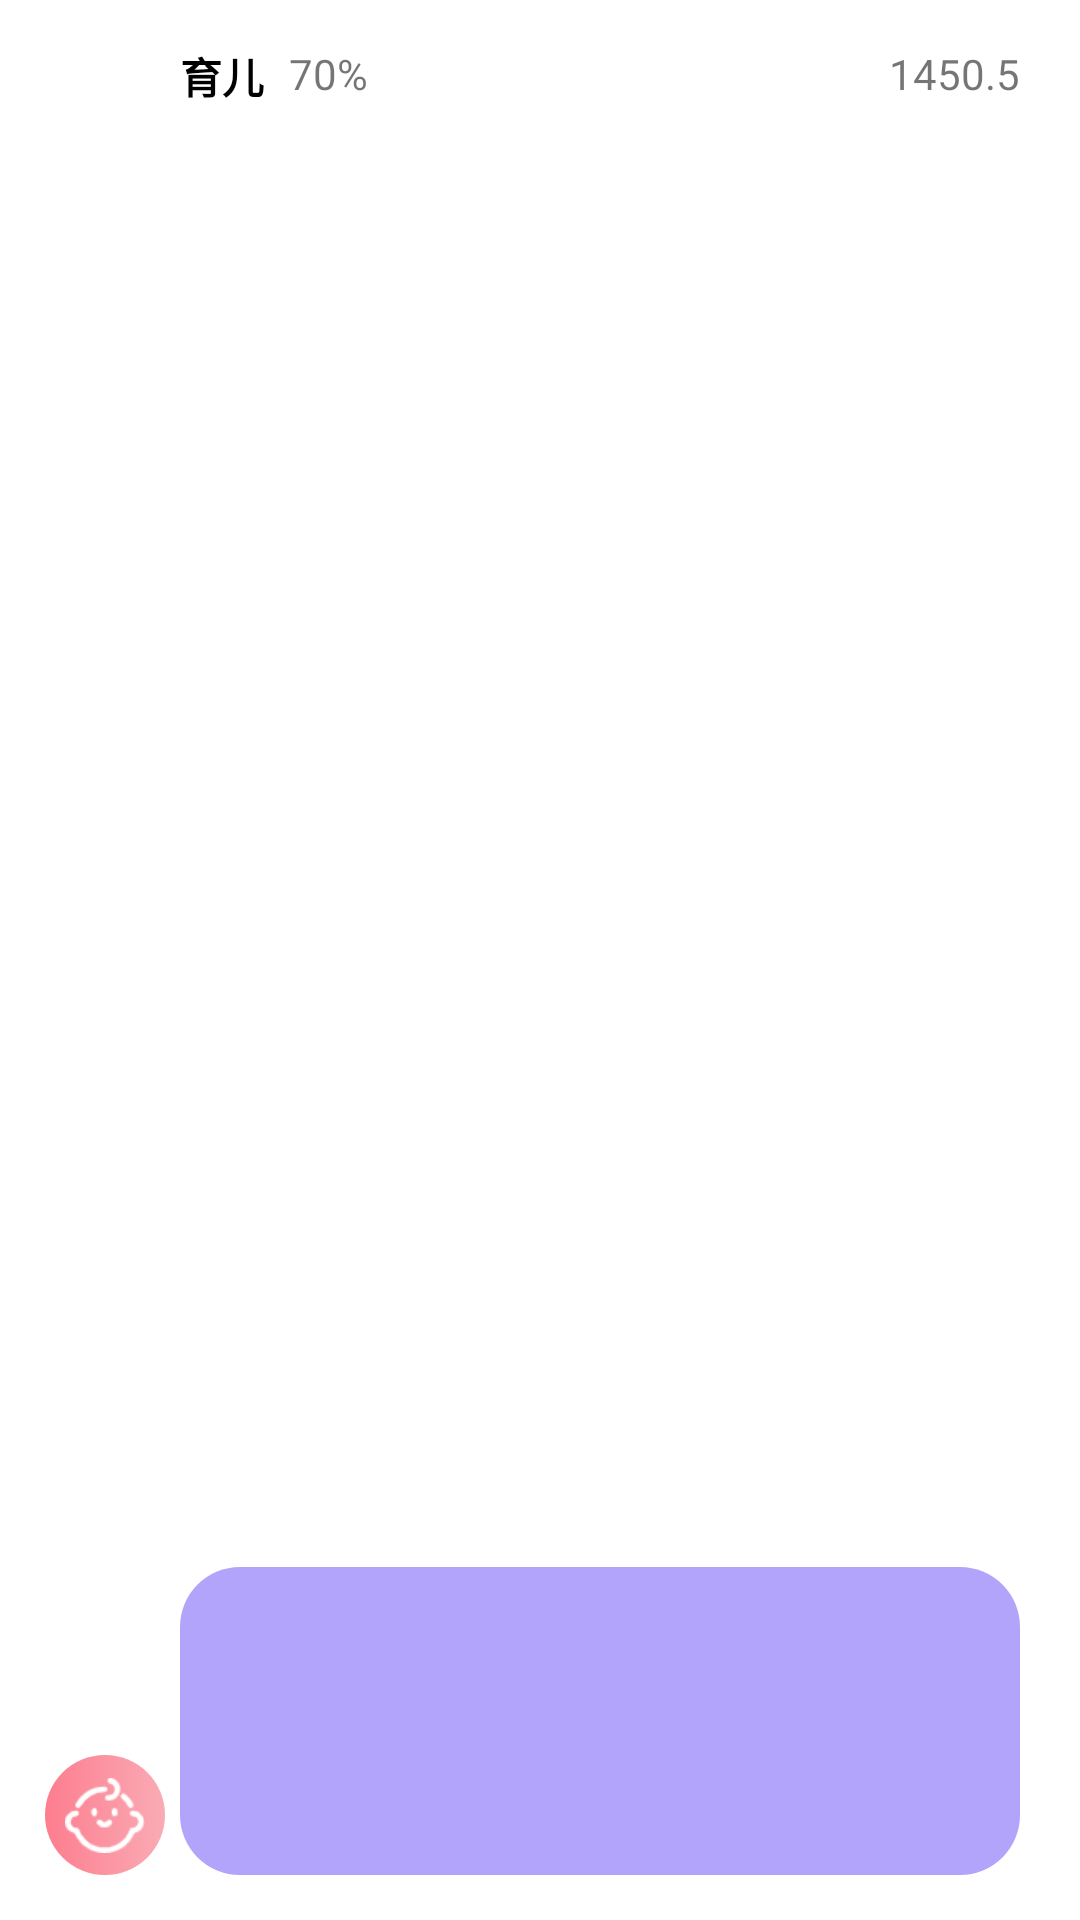

Locate icon controls on the screen. Image size 1080 x 1920, boxes as [left=x1, top=y1, right=x2, bottom=y2].
baby: [left=45, top=1755, right=165, bottom=1875]
